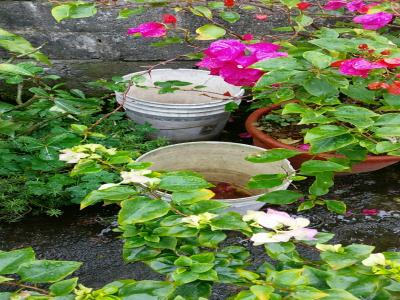bucket: (127, 138, 295, 219), (111, 67, 247, 140)
